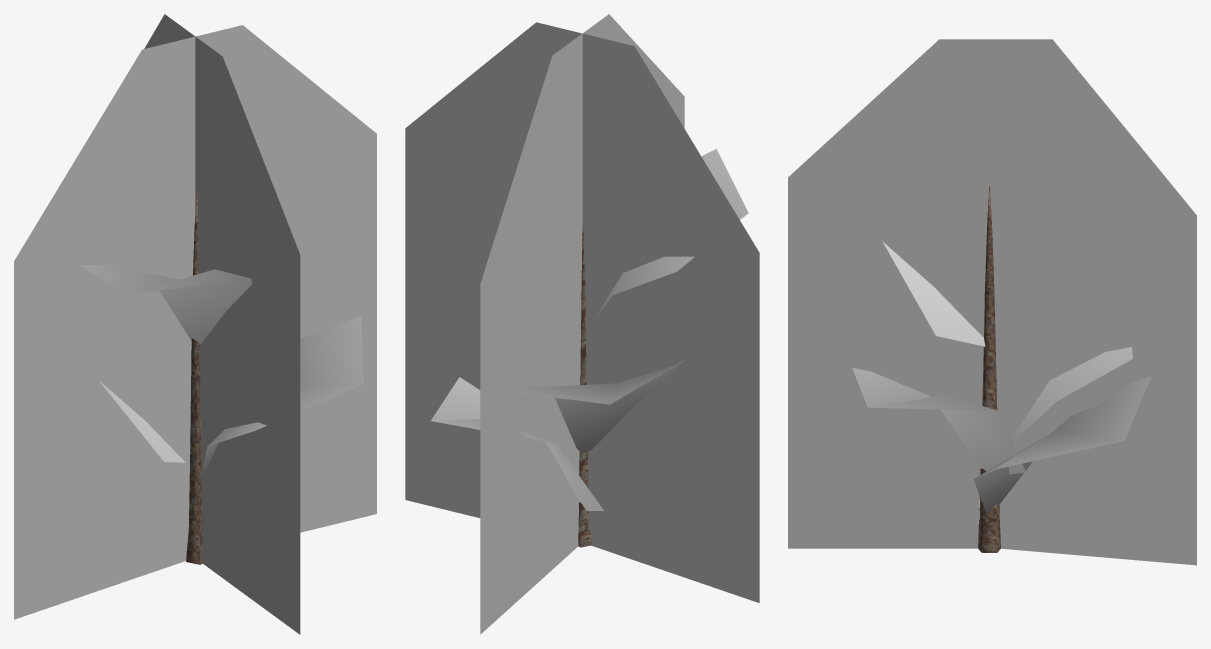
Rendered from Fol_PinePlateB.FBX.
The picture shows the model from 3 angles, left to right: view 1: azimuth 30°, elevation 25°; view 2: azimuth 150°, elevation 25°; view 3: azimuth 270°, elevation 25°; orthographic projection. The views are drawn at different scales.
Visible parts, largest first — view 1: Pine_Plate_2, Trunk; view 2: Pine_Plate_2, Trunk; view 3: Pine_Plate_2, Trunk.
Boxes of the visible parts, x1,y1,x2,y2 form: Pine_Plate_2: [14, 14, 376, 634]; Trunk: [186, 186, 202, 564]; Pine_Plate_2: [405, 14, 759, 634]; Trunk: [578, 225, 591, 547]; Pine_Plate_2: [788, 39, 1196, 565]; Trunk: [978, 181, 1000, 552].
Bounding box in the file's own units: 506 × 718 × 506.
